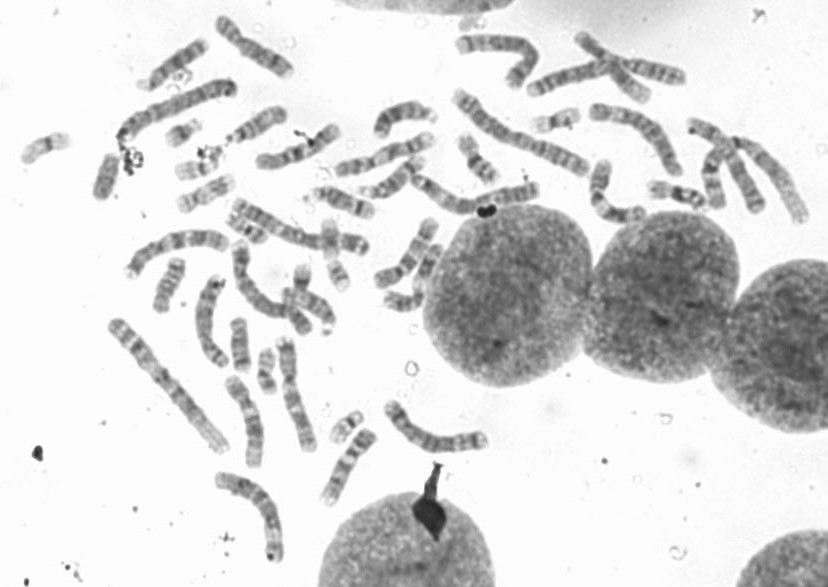chromosomes: (103, 315, 238, 455), (450, 84, 596, 181), (696, 129, 812, 229), (685, 113, 769, 223), (233, 193, 371, 258), (112, 77, 240, 146), (588, 96, 687, 178), (207, 473, 290, 569), (572, 26, 660, 112), (381, 391, 489, 460), (525, 59, 693, 102), (213, 14, 305, 86), (126, 226, 233, 282), (409, 171, 539, 217), (253, 118, 350, 177), (454, 29, 542, 94), (371, 216, 442, 294), (277, 332, 321, 456), (380, 240, 448, 320), (227, 238, 288, 322), (319, 423, 379, 508), (126, 36, 212, 95), (585, 151, 652, 226), (333, 129, 439, 176), (195, 271, 235, 374), (224, 374, 265, 470), (293, 260, 340, 340), (354, 153, 430, 202), (221, 102, 289, 148), (302, 185, 381, 224), (318, 214, 355, 294), (372, 98, 442, 139), (644, 176, 710, 217), (148, 257, 193, 316), (169, 146, 228, 189), (456, 135, 503, 188), (176, 175, 234, 216), (526, 101, 585, 140), (88, 150, 124, 212), (20, 127, 75, 166), (279, 286, 316, 339), (224, 210, 268, 250), (329, 403, 367, 449), (156, 119, 209, 149), (257, 346, 280, 397), (231, 315, 250, 375)
